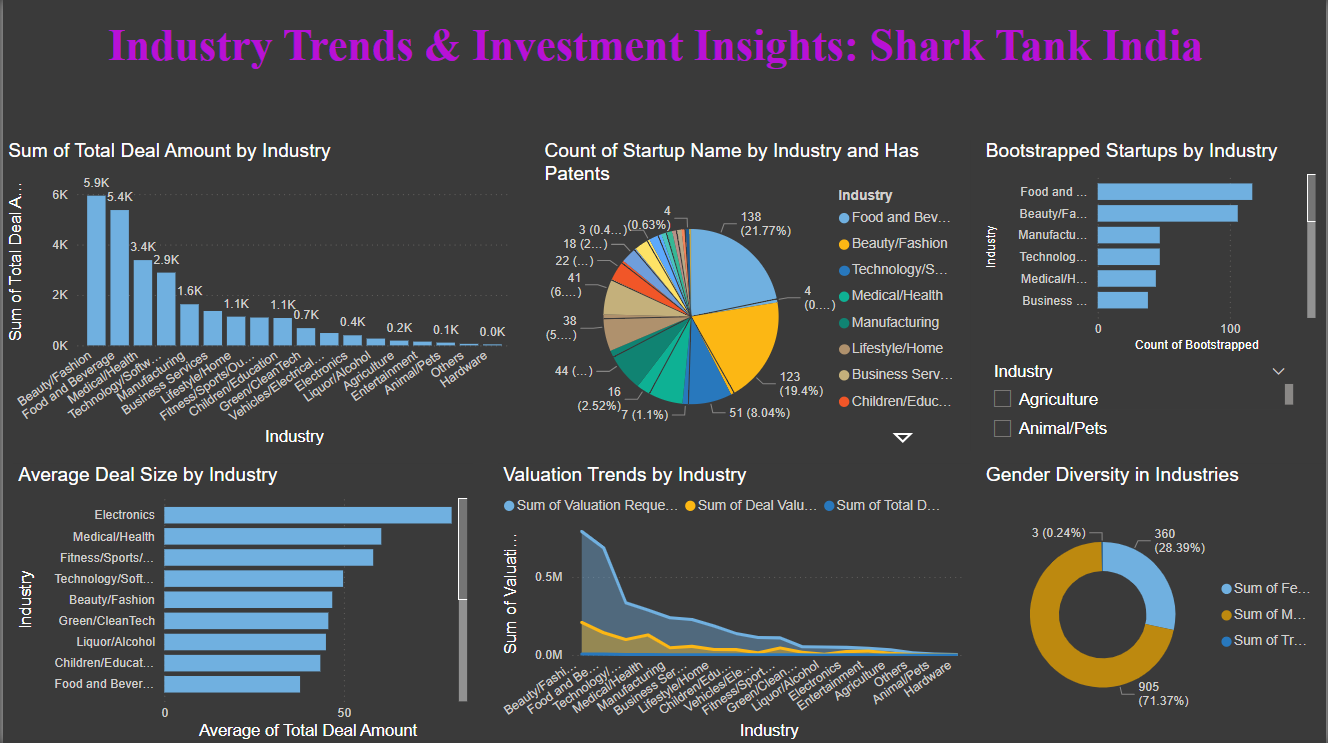

What the dashboard file says about the page in this screenshot:
{"tool":"powerbi","page":{"name":"Page 1","canvas":[1280,720],"ordinal":0},"visuals":[{"type":"columnChart","fields":{"Category":["Shark Tank US.Industry"],"Y":["Sum(Shark Tank US.Total Deal Amount)"]},"box":[0,135.8,496.7,300.5],"z":0},{"type":"pieChart","fields":{"Category":["Shark Tank US.Industry"],"Y":["CountNonNull(Shark Tank US.Startup Name)"],"Series":["Shark Tank US.Has Patents"]},"box":[518.7,135.8,417.2,300.5],"z":1000},{"type":"clusteredBarChart","title":"Average Deal Size by Industry ","fields":{"Category":["Shark Tank US.Industry"],"Y":["Avg(Shark Tank US.Total Deal Amount)"]},"box":[9.6,448.7,444.6,271.7],"z":2000},{"type":"areaChart","title":"Valuation Trends by Industry","fields":{"Y":["Sum(Shark Tank US.Valuation Requested)","Sum(Shark Tank US.Deal Valuation)","Sum(Shark Tank US.Total Deal Amount)"],"Category":["Shark Tank US.Industry"]},"box":[478.9,448.7,456.9,271.7],"z":3000},{"type":"clusteredBarChart","title":"Bootstrapped Startups by Industry","fields":{"Y":["CountNonNull(Shark Tank US.Bootstrapped)"],"Category":["Shark Tank US.Industry"]},"box":[945.5,135.8,329.3,209.9],"z":4000},{"type":"slicer","fields":{"Values":["Shark Tank US.Industry"]},"box":[945.5,345.8,307.4,90.6],"z":5000},{"type":"donutChart","title":"Gender Diversity in Industries","fields":{"Y":["Sum(Shark Tank US.Female Presenters)","Sum(Shark Tank US.Male Presenters)","Sum(Shark Tank US.Transgender Presenters)"]},"box":[945.5,448.7,334.8,271.7],"z":6000},{"type":"textbox","box":[9.3,14,1243,98.8],"z":7000}]}

Visuals, with their boxes in screenshot pixels (x1, y1, x2, y2), scaled from the page's 1280x720 canvas onto the 1328x743 screenshot:
columnChart - Shark Tank US.Industry x Sum(Shark Tank US.Total Deal Amount): 0, 140, 515, 450
pieChart - Shark Tank US.Industry x CountNonNull(Shark Tank US.Startup Name): 538, 140, 971, 450
"Average Deal Size by Industry " clusteredBarChart: 10, 463, 471, 742
"Valuation Trends by Industry" areaChart: 497, 463, 971, 742
"Bootstrapped Startups by Industry" clusteredBarChart: 981, 140, 1323, 357
slicer - Shark Tank US.Industry: 981, 357, 1300, 450
"Gender Diversity in Industries" donutChart: 981, 463, 1327, 742
textbox: 10, 14, 1299, 116
